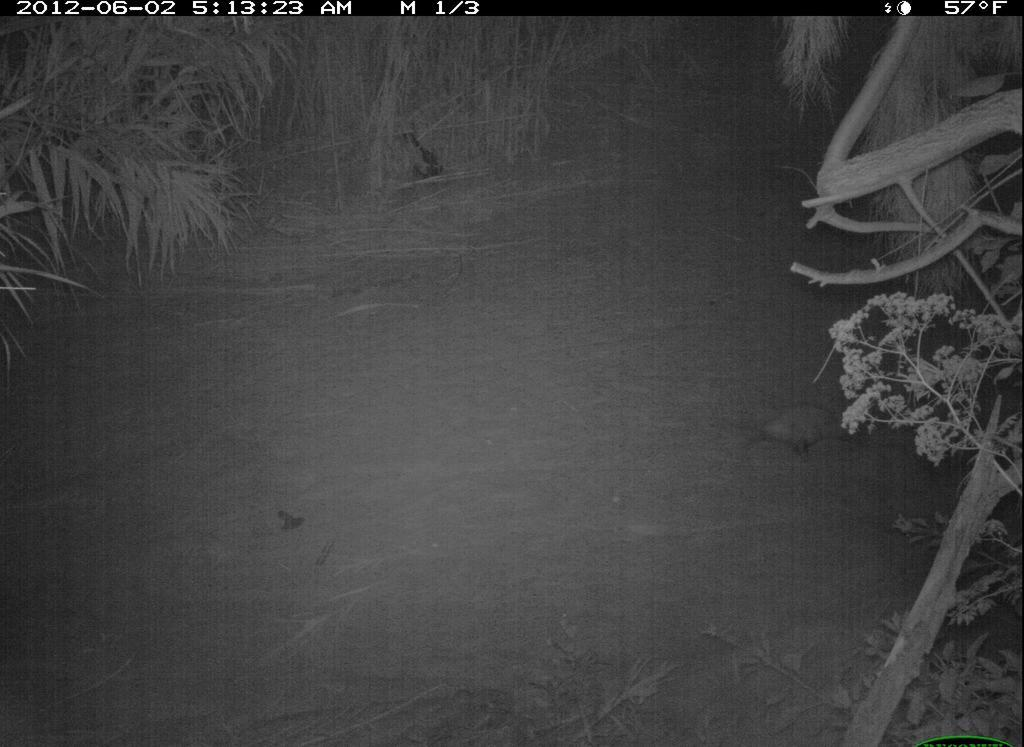opossum: (710, 387, 909, 473)
